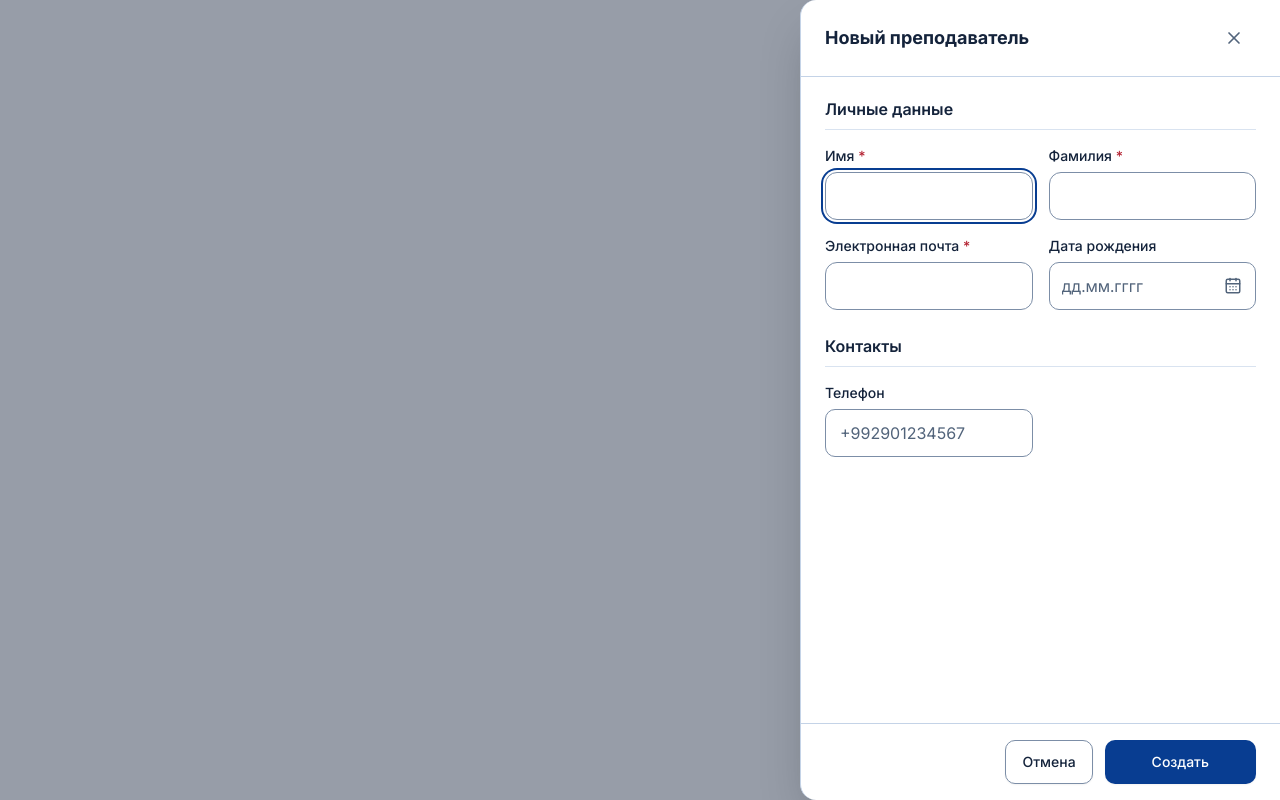
Test: MentorFormPanel › renders translated general validation error on 422 for unsupported field in non-English locale (ru)
The width and height of the screenshot is (1280, 800).
In the field labelled "Имя *": (929, 196) [825,172,1032,220], type "Test"
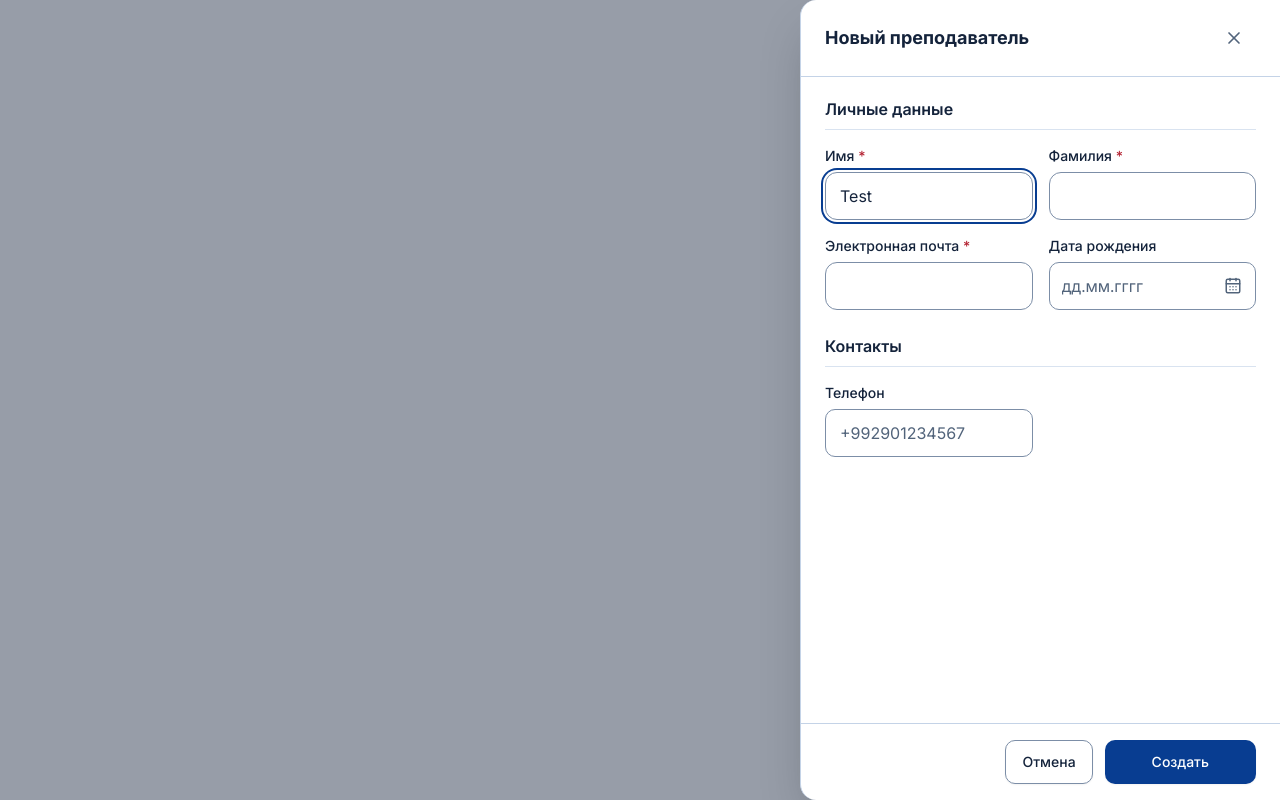
In the field labelled "Фамилия *": (1152, 196) [1048,172,1256,220], type "Mentor"
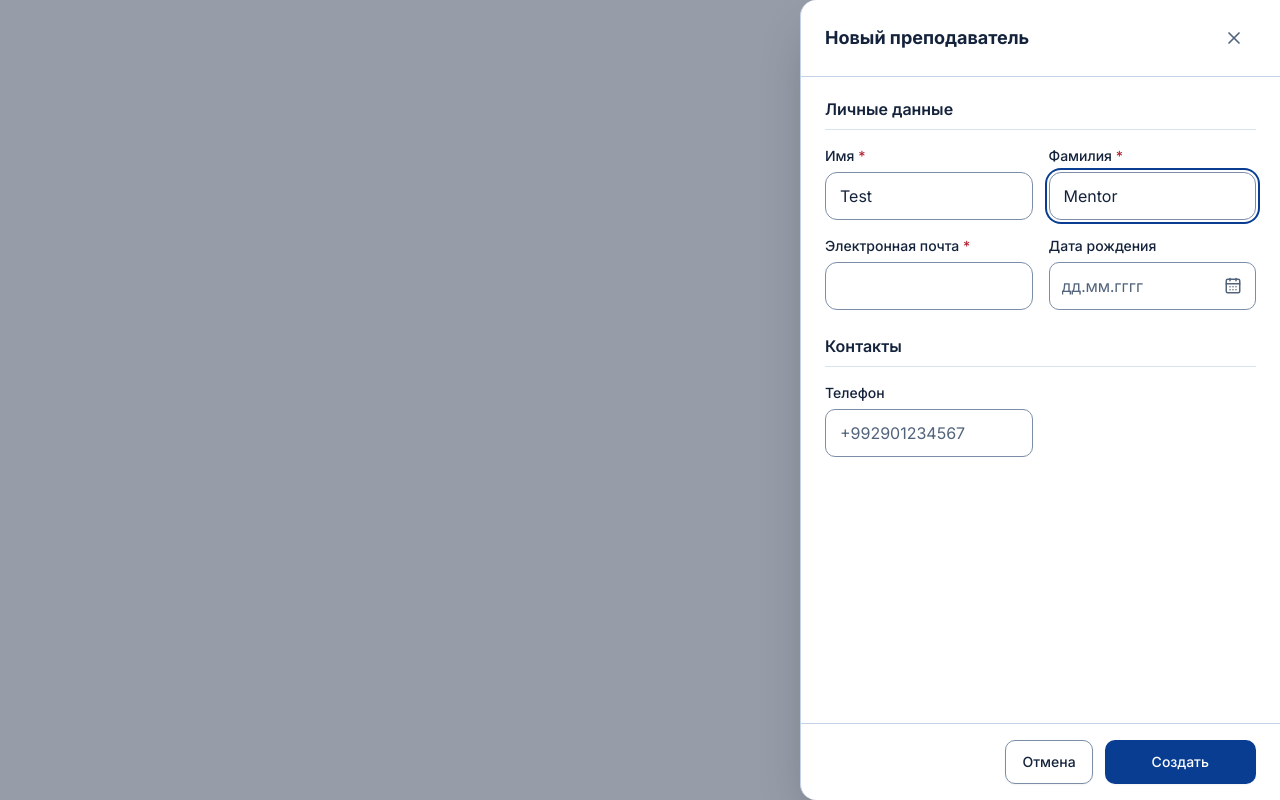
In the field labelled "Электронная почта *": (929, 286) [825,262,1032,310], type "valid@example.com"
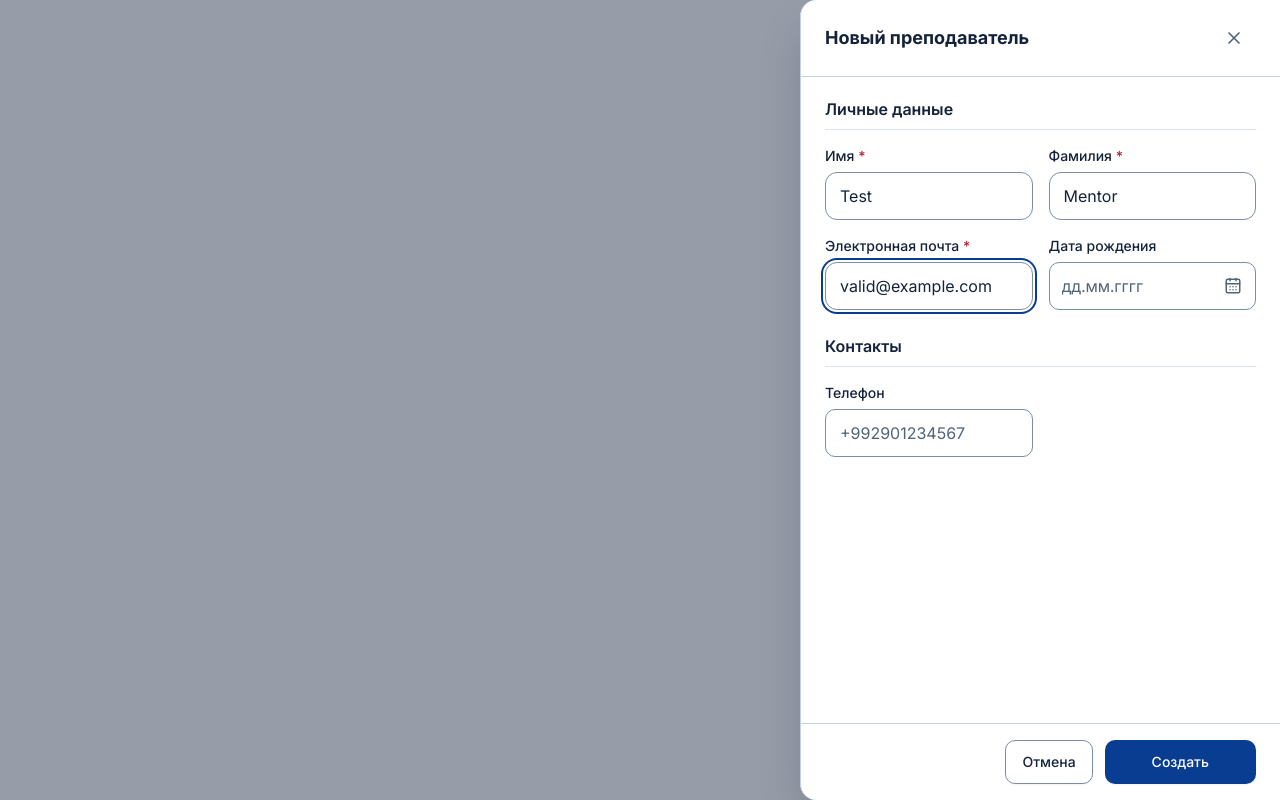
Click the button "Создать": (1180, 762) [1105,740,1256,784]
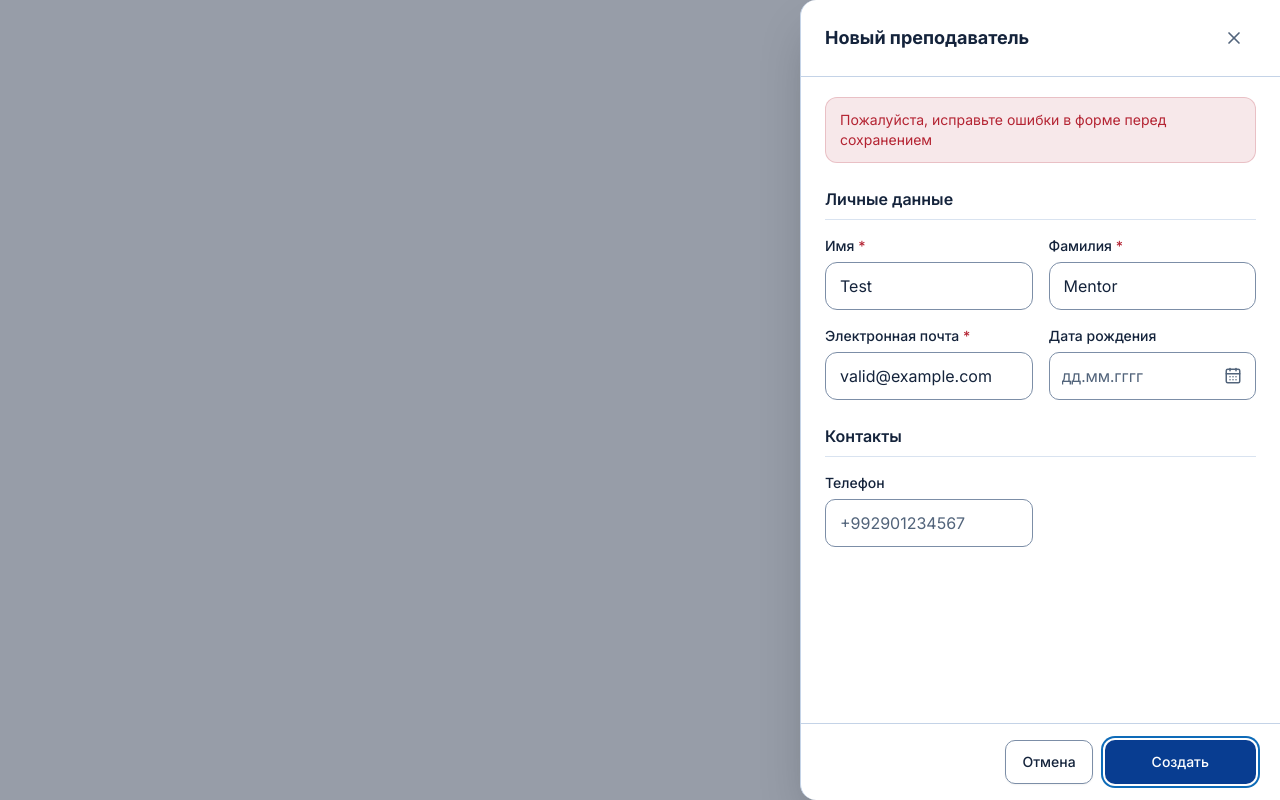
Now the text "Пожалуйста, исправьте ошибки в форме перед сохранением" is shown, box [825,97,1256,163]
